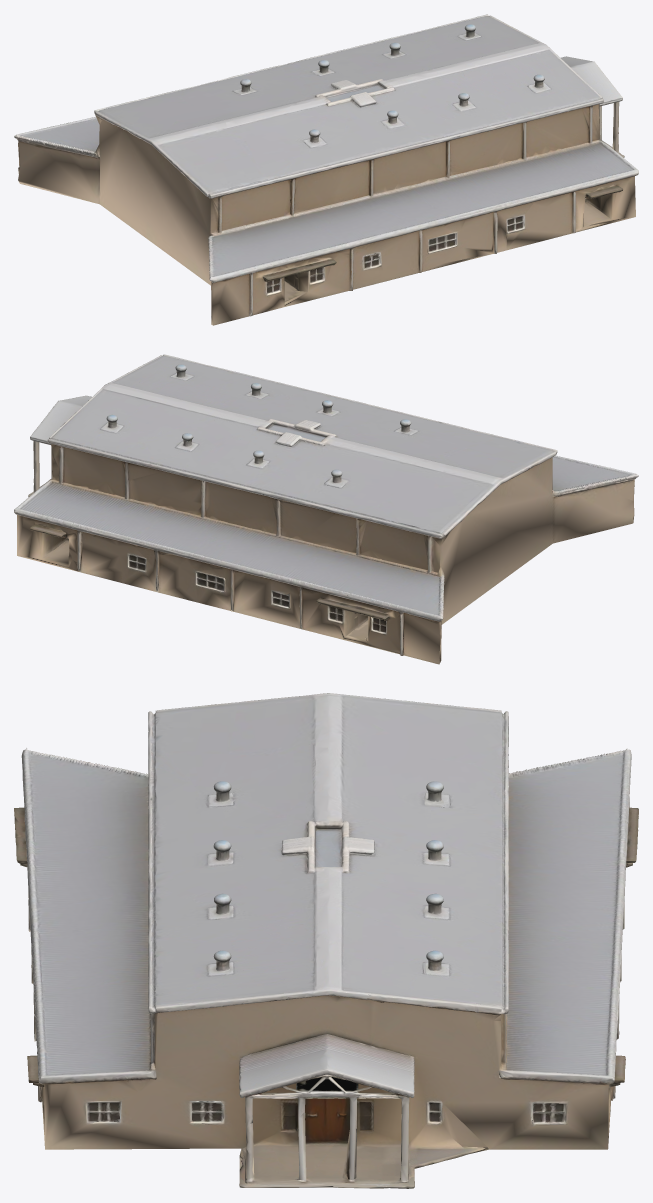
The model's file is Auditorium.glb.
3 views of the same model, one above another, from view 1: azimuth 30°, elevation 25°; view 2: azimuth 150°, elevation 25°; view 3: azimuth 270°, elevation 25° (orthographic). The views are drawn at different scales.
Parts seen in each view (by area): view 1: tripo_node_842269e2-59f3-4e33-91bc-dd0805344f20; view 2: tripo_node_842269e2-59f3-4e33-91bc-dd0805344f20; view 3: tripo_node_842269e2-59f3-4e33-91bc-dd0805344f20.
Boxes of the visible parts, <box> form: tripo_node_842269e2-59f3-4e33-91bc-dd0805344f20: <box>14,14,638,325</box>; tripo_node_842269e2-59f3-4e33-91bc-dd0805344f20: <box>14,354,638,664</box>; tripo_node_842269e2-59f3-4e33-91bc-dd0805344f20: <box>14,693,638,1188</box>.
Size of the model in its own units: 0.9792 by 0.2101 by 0.7075.
1 material, 1 textured.
